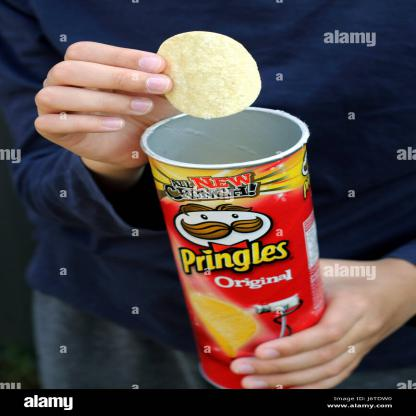potatochip: (134, 99, 352, 405)
